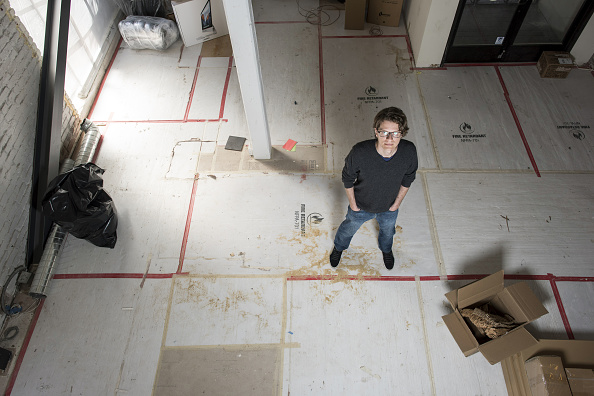em pe: (329, 111, 415, 271)
